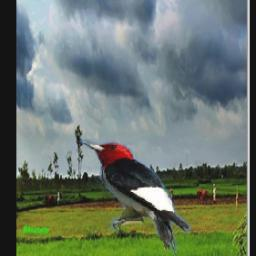Woodpecker: (79, 140, 193, 256)
